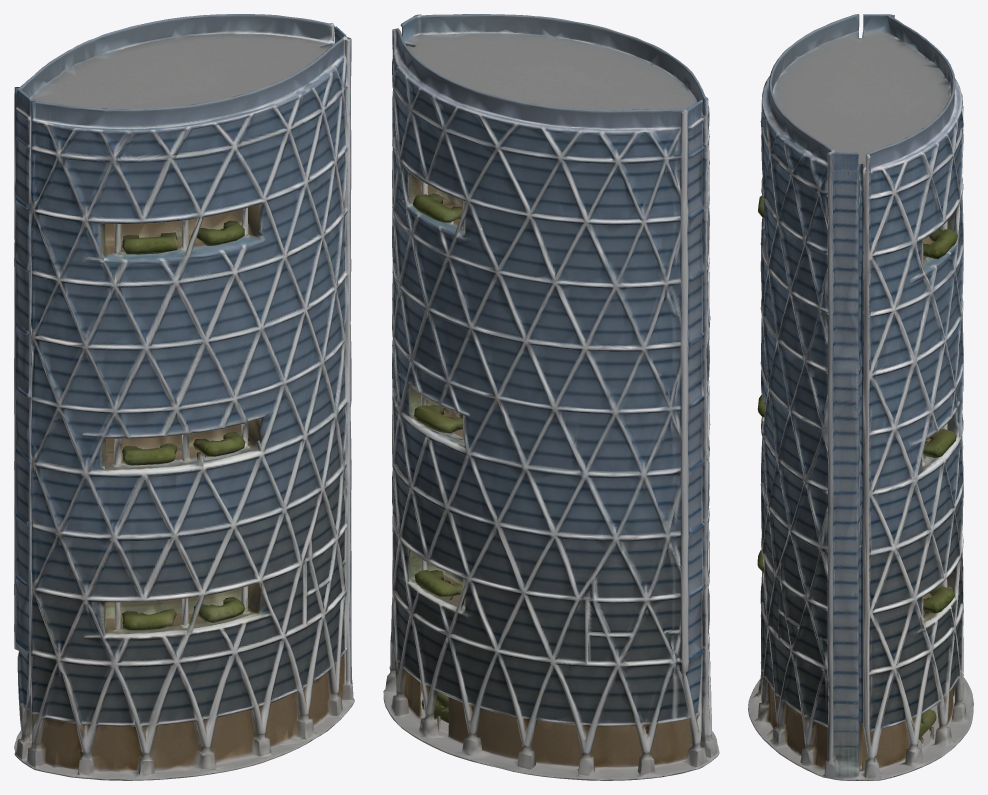
Rendered from bow.glb.
3 views of the same model, side by side, from view 1: azimuth 30°, elevation 25°; view 2: azimuth 150°, elevation 25°; view 3: azimuth 270°, elevation 25° (orthographic). The views are drawn at different scales.
Parts seen in each view (by area): view 1: tripo_node_8a6bc900-144f-4c05-b5a2-aa395428aea0; view 2: tripo_node_8a6bc900-144f-4c05-b5a2-aa395428aea0; view 3: tripo_node_8a6bc900-144f-4c05-b5a2-aa395428aea0.
Part boxes in pixels (x1,y1,x2,y2): tripo_node_8a6bc900-144f-4c05-b5a2-aa395428aea0: (14,14,354,780); tripo_node_8a6bc900-144f-4c05-b5a2-aa395428aea0: (383,14,719,780); tripo_node_8a6bc900-144f-4c05-b5a2-aa395428aea0: (748,14,973,780).
Bounding box in the file's own units: 0.5028 × 1 × 0.3274.
1 material, 1 textured.
